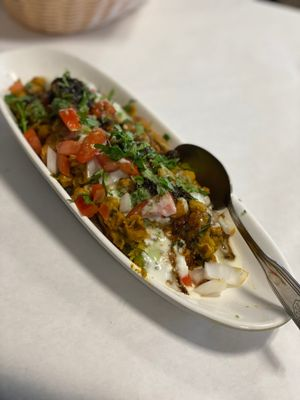sushi: (0, 48, 284, 370), (1, 0, 149, 36)
